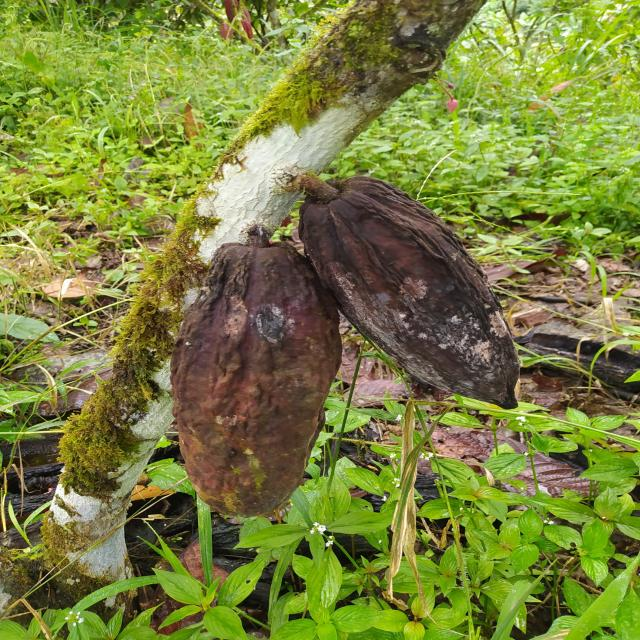Fitoftora: (298, 174, 522, 409), (170, 240, 346, 520)
